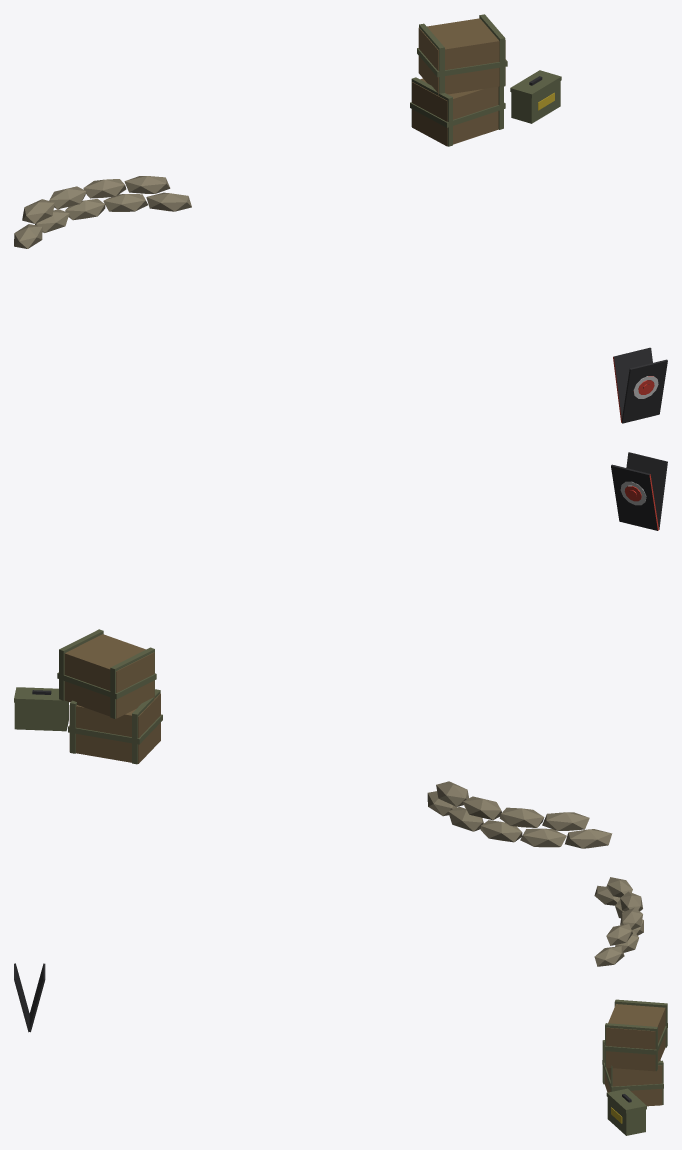
File: armurerie_props_b.glb
3 renders of one model, top to bottom at view 1: azimuth 30°, elevation 25°; view 2: azimuth 150°, elevation 25°; view 3: azimuth 270°, elevation 25°, orthographic. The views are drawn at different scales.
Parts seen in each view (by area): view 1: armurerie_props_b; view 2: armurerie_props_b; view 3: armurerie_props_b.
Boxes of the visible parts, x1=… form: armurerie_props_b: x1=14, y1=14, x2=667, y2=423; armurerie_props_b: x1=14, y1=452, x2=667, y2=848; armurerie_props_b: x1=14, y1=877, x2=667, y2=1135.
Bounding box in the file's own units: 9.01 × 1.44 × 10.4.
